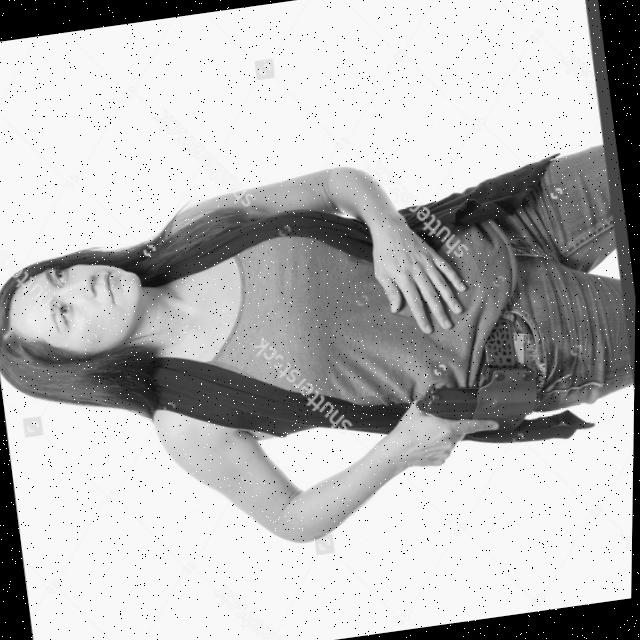pistol: (413, 381, 484, 428)
